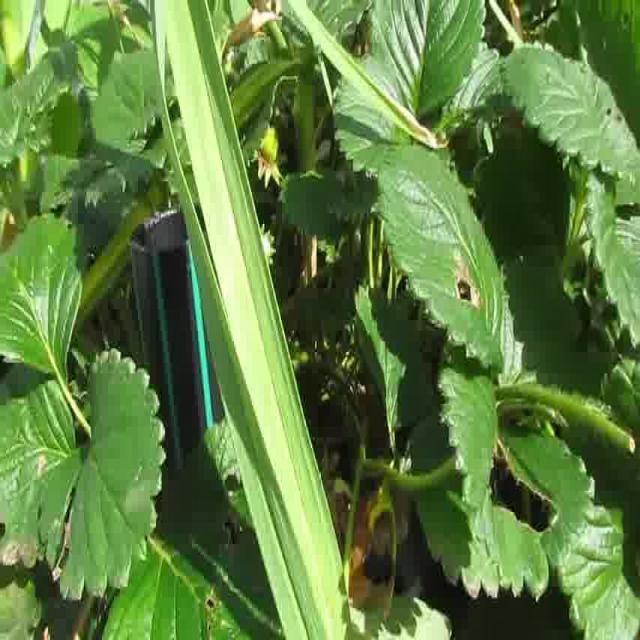Fruta sana: (262, 116, 280, 170)
